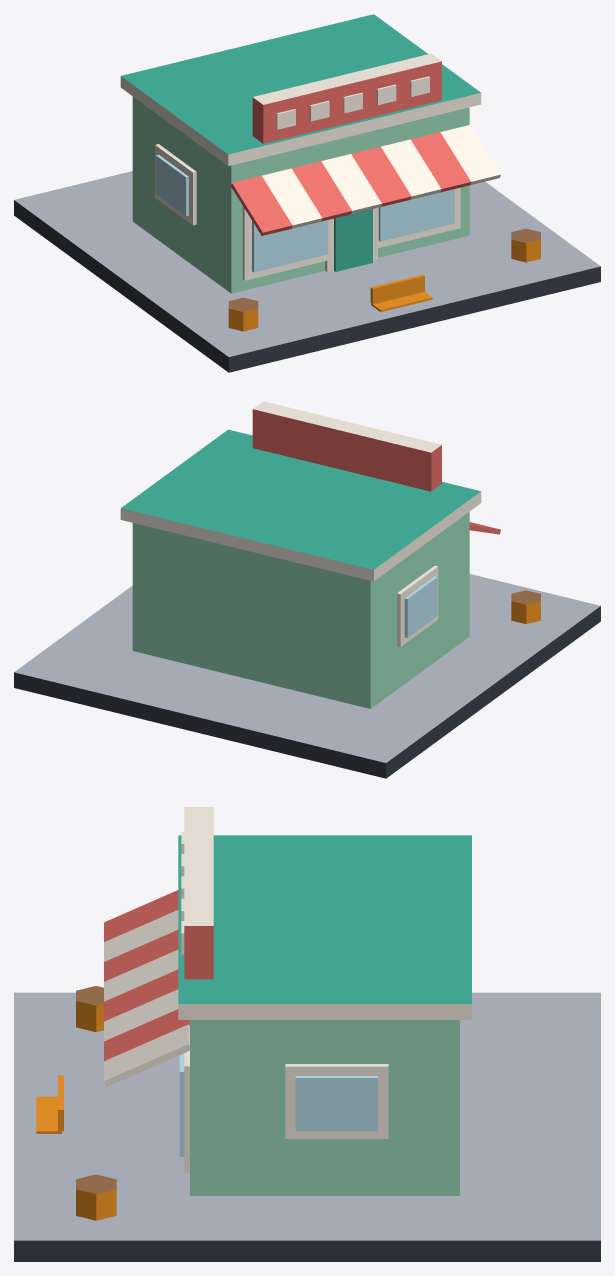
File: shop_general.glb
3 renders of one model, top to bottom at view 1: azimuth 30°, elevation 25°; view 2: azimuth 150°, elevation 25°; view 3: azimuth 270°, elevation 25°, orthographic. The views are drawn at different scales.
Visible parts, largest first — view 1: shop_general; view 2: shop_general; view 3: shop_general.
Boxes of the visible parts, x1,y1,x2,y2 form: shop_general: (14, 14, 600, 372); shop_general: (14, 401, 600, 778); shop_general: (14, 807, 600, 1261).
Size of the model in its own units: 1 by 0.51 by 1.
